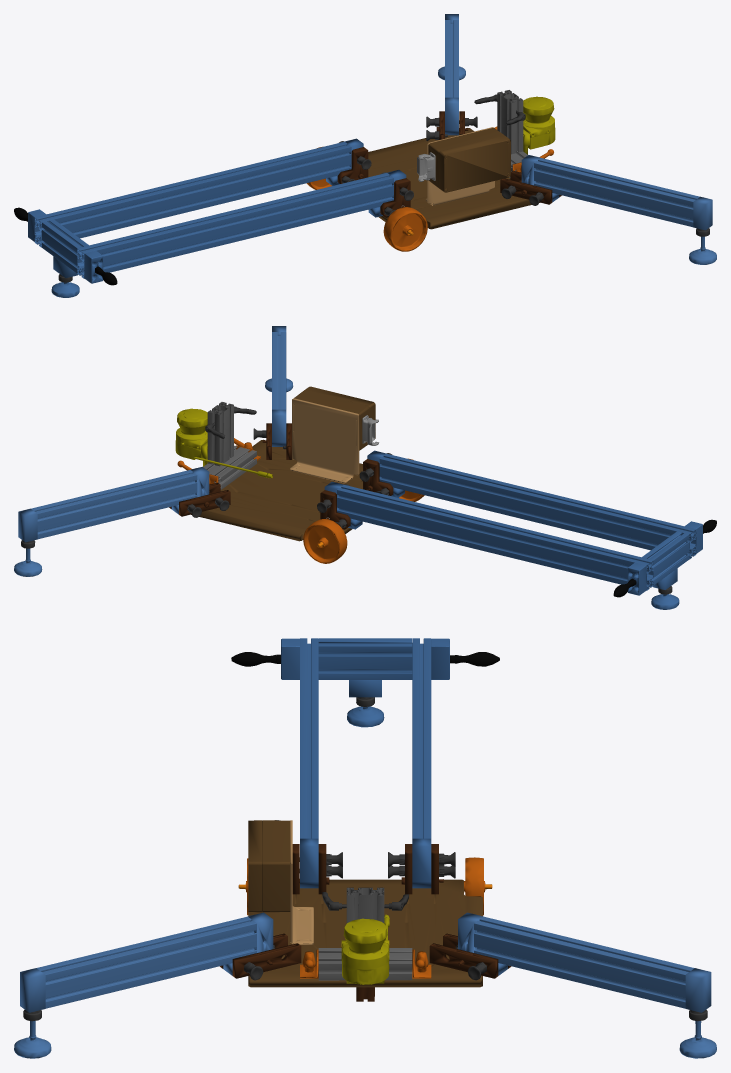
Rendered from robot.obj.
3 views of the same model, one above another, from view 1: azimuth 30°, elevation 25°; view 2: azimuth 150°, elevation 25°; view 3: azimuth 270°, elevation 25° (orthographic). The views are drawn at different scales.
Size of the model in its own units: 1749 by 275 by 1498.
